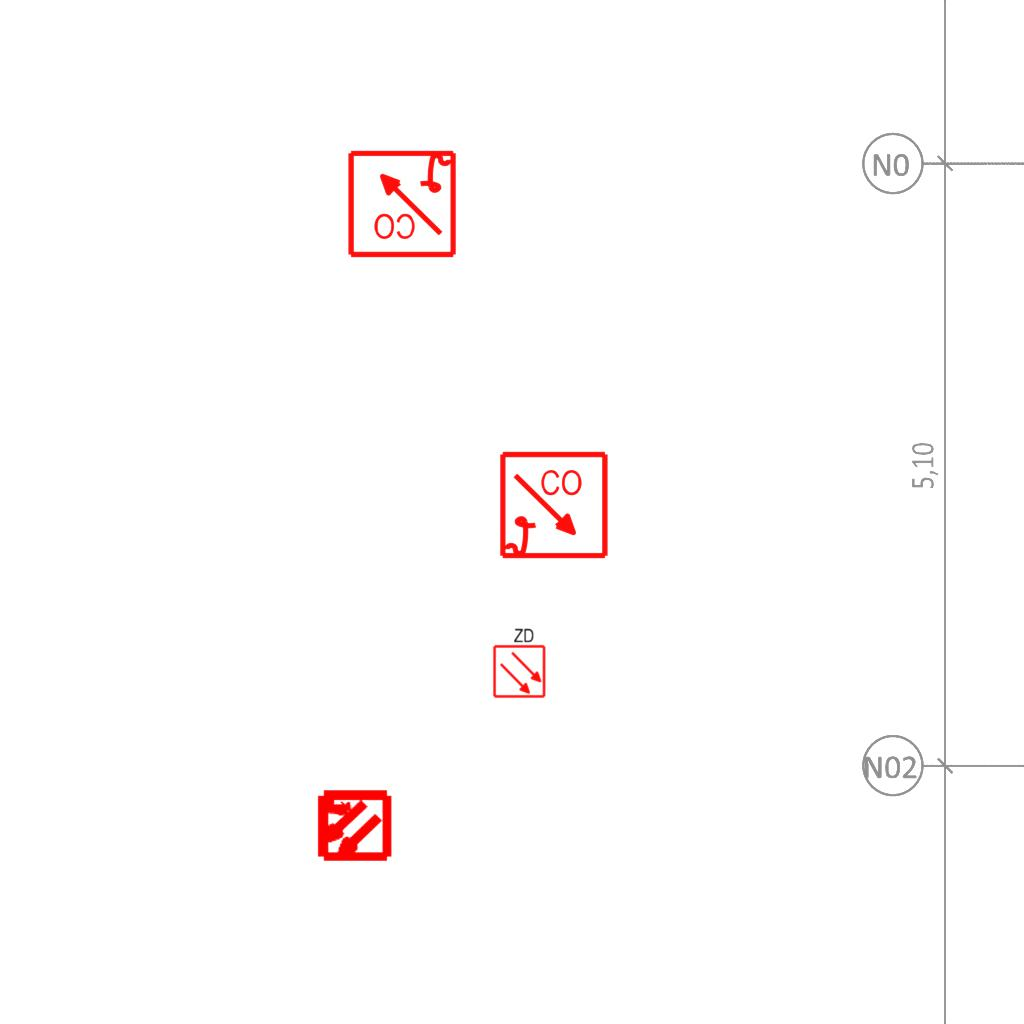OT_Multisensormelder_(Kombination_RMO_WMD): (296, 769, 409, 882)
ROA_Rauchmelder_optisch_mit_Signalgeber_(Sockelsirene): (498, 450, 611, 563), (345, 146, 458, 259)
ZD_Melder_in_Zwischendecke_mit_Revisionsoeffnung_mind_40_x_40_cm: (490, 625, 547, 699)
